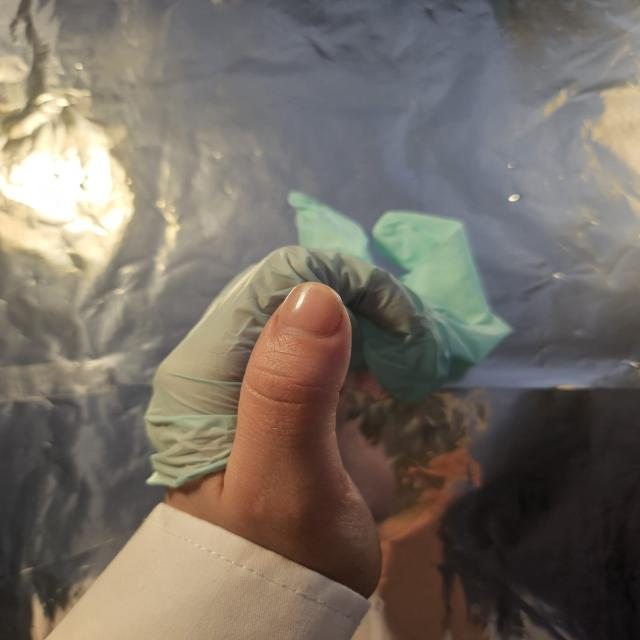glove_partial: (137, 187, 517, 580)
